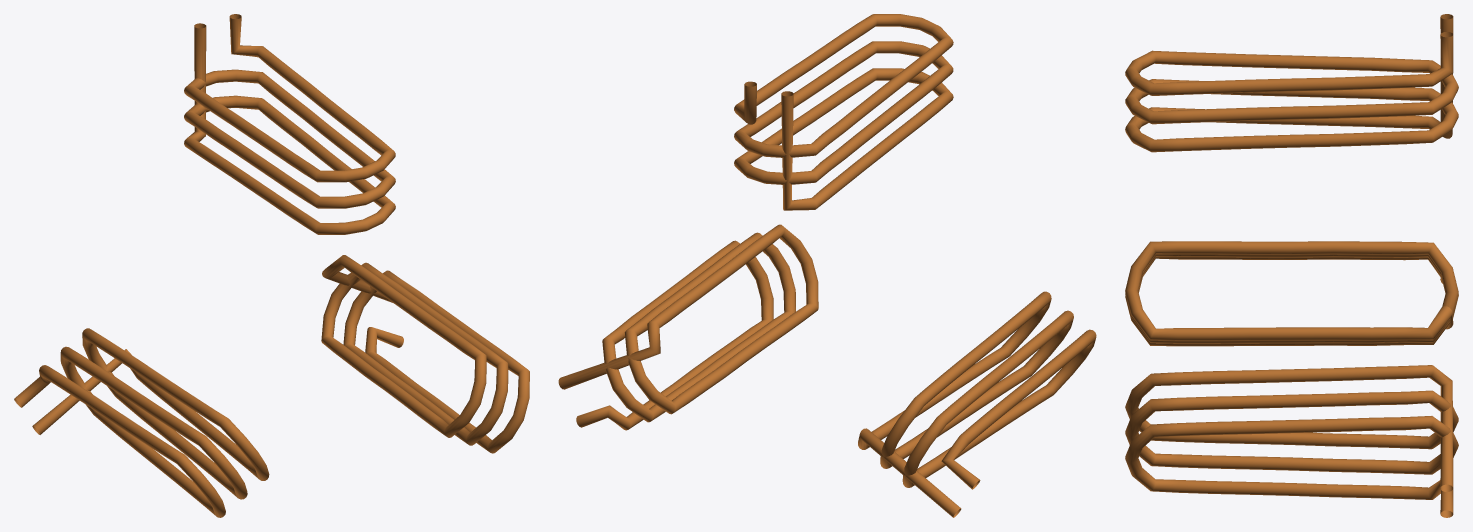
Rendered from DCblCoil6.glb.
3 renders of one model, left to right at view 1: azimuth 30°, elevation 25°; view 2: azimuth 150°, elevation 25°; view 3: azimuth 270°, elevation 25°, orthographic. The views are drawn at different scales.
Parts seen in each view (by area): view 1: Spiral.004, Spiral.002, Spiral.001; view 2: Spiral.004, Spiral.002, Spiral.001; view 3: Spiral.001, Spiral.004, Spiral.002.
Boxes of the visible parts, x1,y1,x2,y2 form: Spiral.004: (184,14,395,234); Spiral.002: (14,328,269,517); Spiral.001: (321,255,529,453); Spiral.004: (734,14,953,210); Spiral.002: (858,291,1096,517); Spiral.001: (558,224,818,430); Spiral.001: (1125,365,1458,517); Spiral.004: (1125,14,1458,152); Spiral.002: (1125,241,1458,346).
Bounding box in the file's own units: 6.89 × 6.03 × 4.58.
